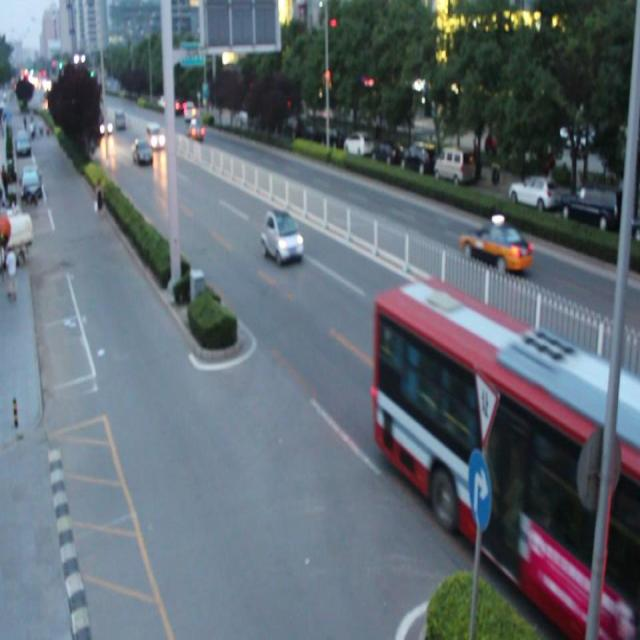car: (458, 216, 530, 276), (261, 208, 303, 267), (132, 139, 152, 167), (184, 118, 205, 140)
van: (374, 276, 640, 640)
